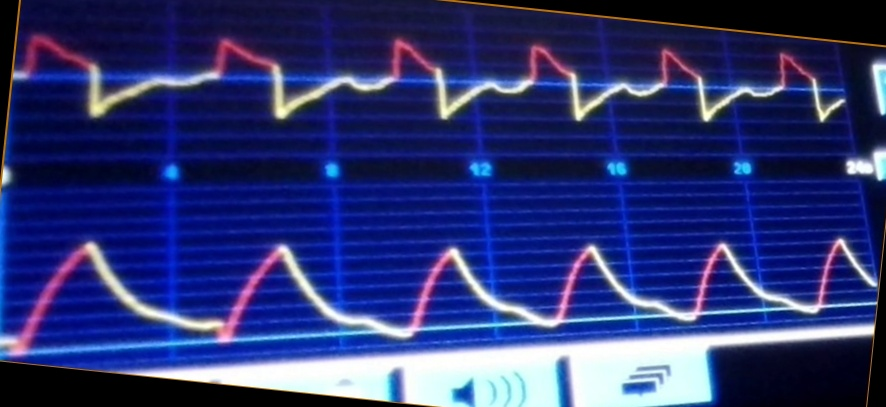Ineffective_effort Flow: (16, 25, 845, 139)
Ineffective_effort Volume: (3, 209, 868, 345)
